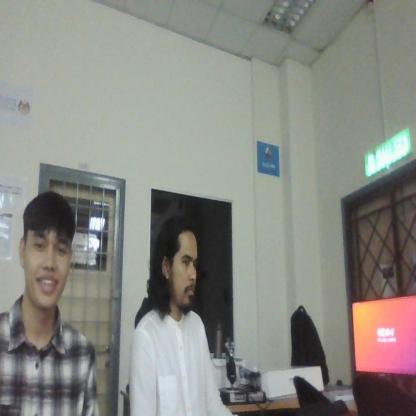Open-Eyes: (29, 233, 69, 259), (176, 249, 200, 272)
